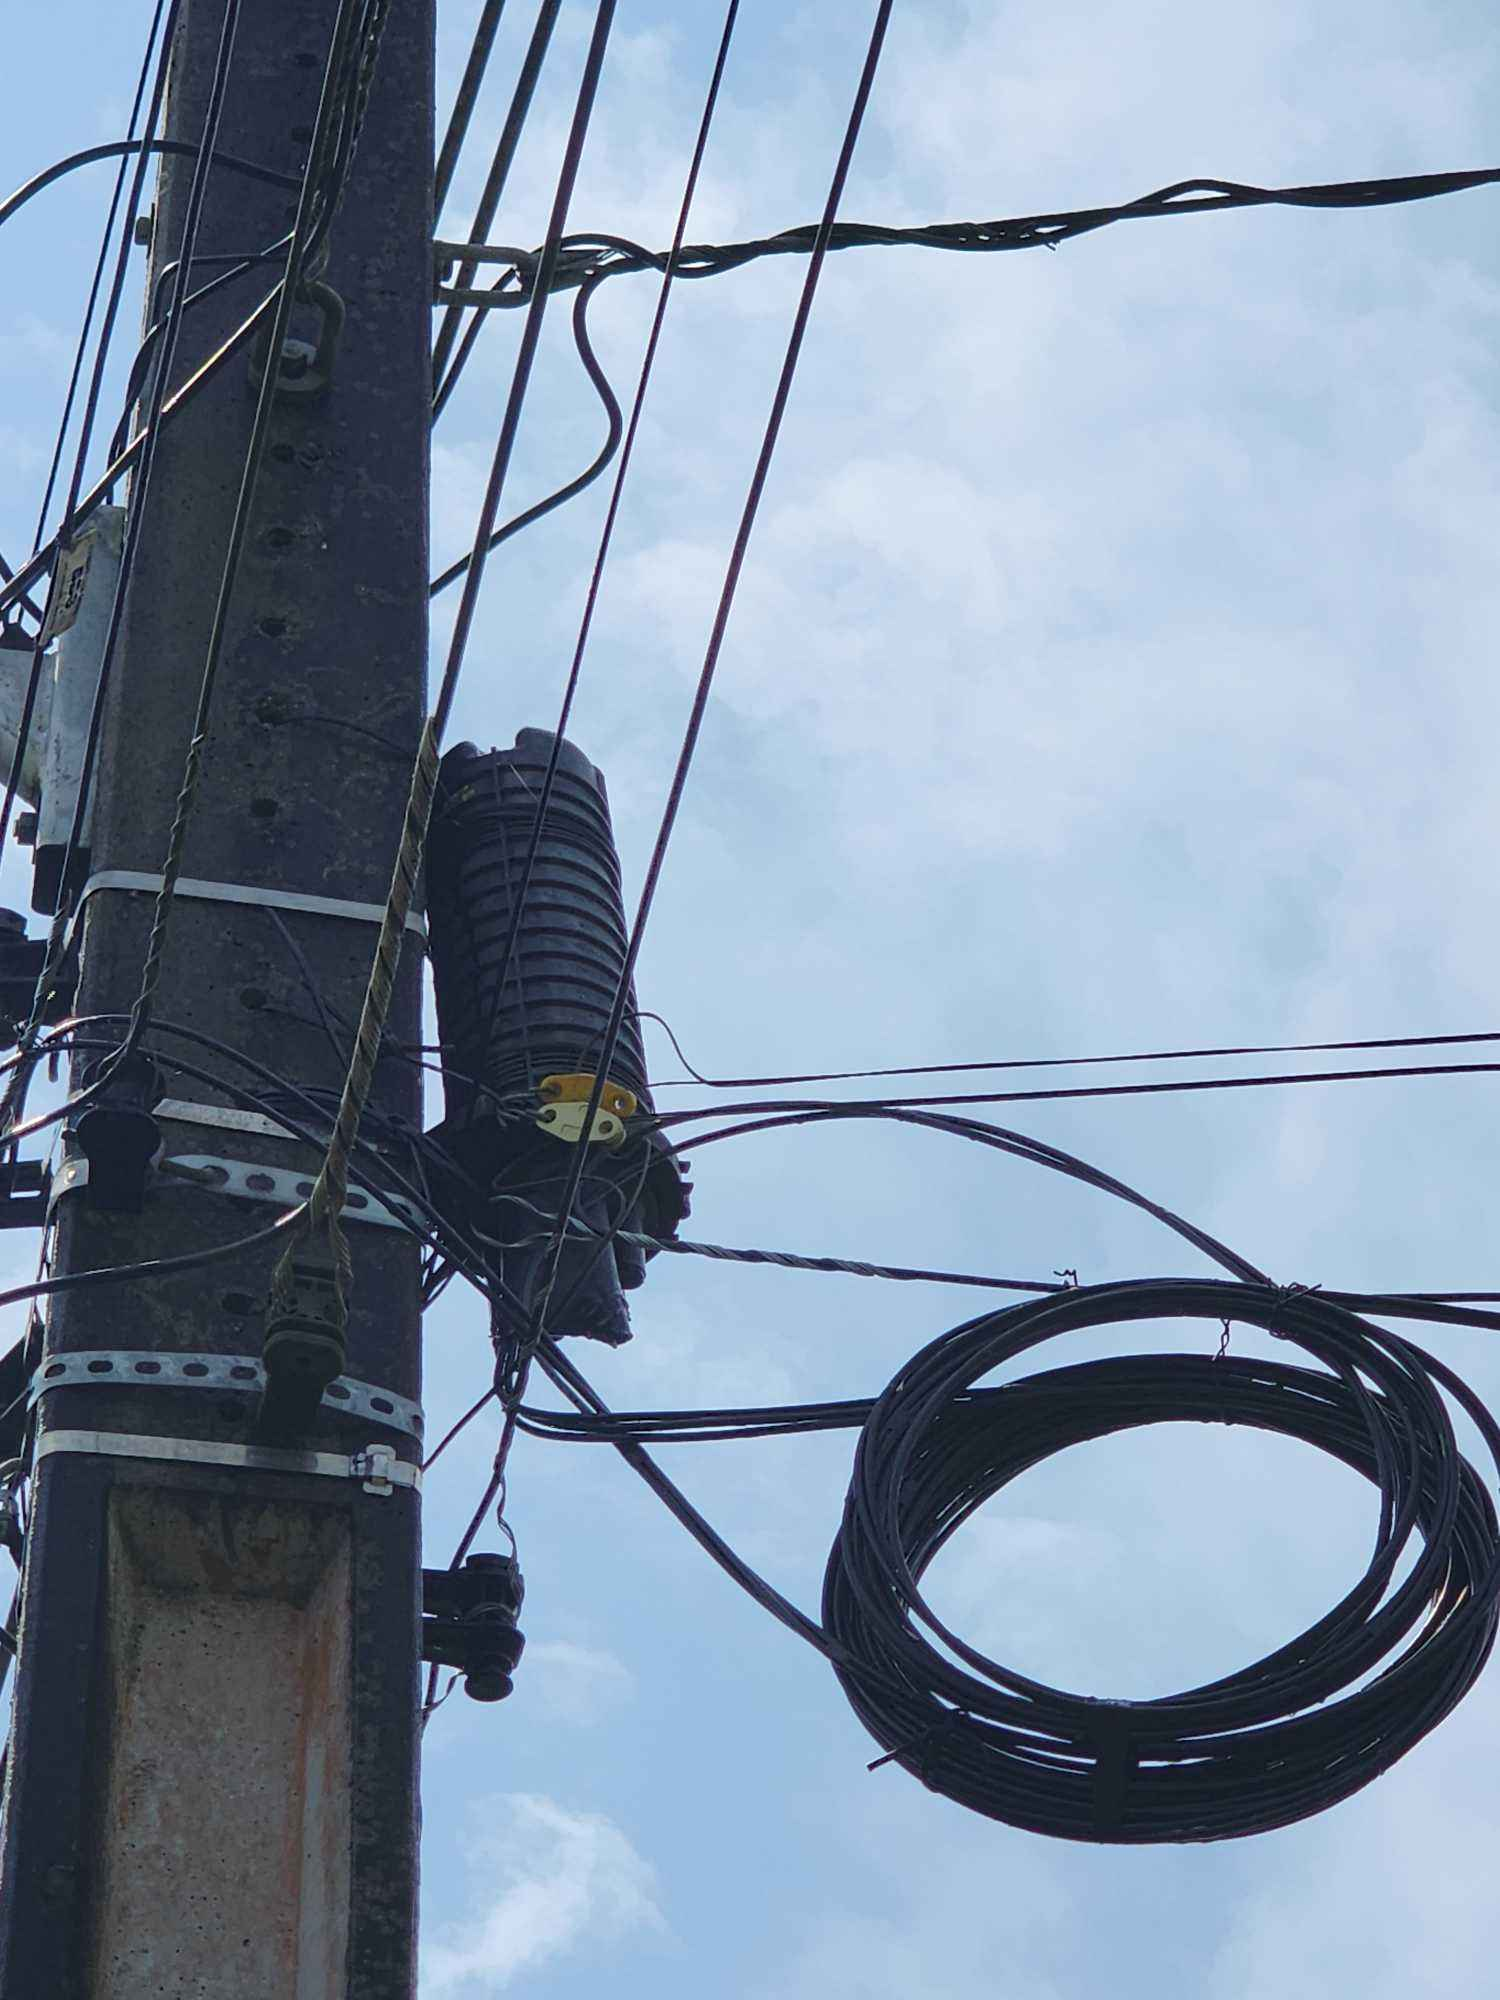poste: (43, 191, 430, 1989)
